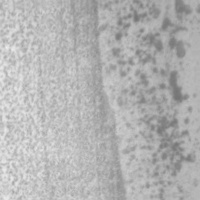pitted_surface: (0, 1, 110, 200), (102, 0, 197, 178)
